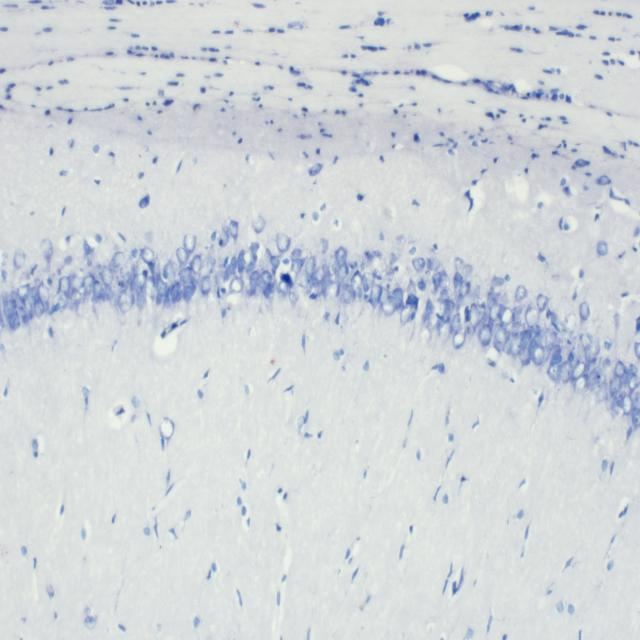neuron: (438, 316, 452, 344), (117, 293, 133, 314), (610, 391, 626, 412), (560, 361, 574, 384), (584, 342, 600, 362), (570, 361, 586, 381), (3, 294, 16, 318), (531, 344, 545, 366), (525, 306, 539, 328), (294, 270, 311, 288), (276, 234, 291, 254), (37, 282, 50, 305), (502, 333, 515, 356), (520, 329, 534, 350), (41, 238, 53, 262), (259, 248, 272, 270), (251, 214, 266, 233), (383, 296, 397, 316), (500, 307, 514, 327), (574, 373, 588, 393), (453, 327, 465, 350), (321, 274, 332, 299), (7, 309, 20, 330), (311, 267, 324, 288), (162, 262, 178, 279), (462, 321, 476, 340), (156, 273, 167, 297), (351, 270, 363, 292), (519, 344, 531, 366), (250, 270, 260, 296), (170, 281, 181, 304), (140, 246, 154, 264), (400, 304, 412, 325), (479, 325, 491, 346), (488, 303, 502, 321), (510, 332, 520, 357), (83, 274, 96, 293), (34, 297, 45, 319), (219, 226, 230, 248), (184, 284, 196, 304), (190, 254, 202, 274), (200, 275, 212, 295), (547, 364, 561, 381), (470, 303, 479, 329), (536, 293, 549, 311), (145, 276, 156, 297), (305, 256, 316, 277), (336, 246, 346, 269), (93, 281, 105, 300), (184, 233, 196, 252), (515, 284, 527, 303), (427, 256, 441, 272), (494, 327, 508, 343), (112, 251, 125, 268), (120, 267, 133, 284), (230, 276, 243, 293), (14, 247, 25, 267), (102, 265, 113, 285), (579, 301, 590, 321), (134, 272, 146, 290), (328, 265, 340, 283), (459, 280, 471, 298), (475, 304, 487, 322), (614, 360, 626, 378), (432, 271, 442, 292), (136, 291, 147, 310), (371, 284, 382, 303), (610, 376, 621, 395), (17, 284, 30, 300), (176, 248, 189, 264), (378, 288, 391, 304), (60, 276, 70, 296), (343, 284, 353, 304), (393, 288, 403, 308), (623, 395, 633, 415), (18, 306, 29, 324), (181, 266, 192, 284), (338, 262, 349, 280), (260, 270, 272, 286), (511, 305, 523, 321), (24, 301, 34, 320), (412, 258, 425, 272), (28, 288, 37, 308), (72, 275, 84, 290), (228, 255, 237, 275), (364, 272, 376, 287), (452, 312, 461, 332), (453, 272, 464, 288), (629, 374, 640, 390), (104, 284, 114, 301), (264, 282, 274, 299), (198, 264, 210, 278), (238, 249, 245, 273), (164, 286, 171, 309), (230, 220, 238, 240), (219, 264, 229, 280), (406, 281, 416, 297), (440, 271, 450, 287), (291, 259, 303, 272), (462, 264, 474, 277), (278, 281, 288, 296), (530, 325, 541, 338), (57, 296, 67, 310), (190, 272, 200, 286), (289, 288, 299, 302), (361, 275, 369, 292), (440, 300, 448, 317), (456, 293, 464, 310), (632, 409, 640, 426), (92, 264, 102, 277), (454, 257, 464, 270), (511, 321, 519, 337), (440, 288, 451, 299), (493, 341, 504, 352), (270, 256, 280, 268), (491, 277, 504, 286), (386, 268, 394, 282), (504, 321, 514, 332), (602, 358, 611, 370), (9, 290, 17, 303), (604, 336, 612, 349), (634, 342, 640, 359), (70, 291, 80, 301), (291, 249, 302, 258), (447, 300, 456, 311), (175, 290, 183, 302), (355, 286, 363, 298), (208, 256, 216, 267), (630, 364, 638, 375), (210, 230, 217, 242), (322, 264, 329, 276), (1, 291, 9, 300), (131, 248, 138, 258), (409, 246, 416, 256), (2, 270, 8, 281), (43, 301, 49, 312), (594, 385, 602, 393), (50, 304, 55, 315), (3, 252, 8, 262), (55, 303, 61, 311), (224, 256, 228, 268), (361, 262, 365, 270)
